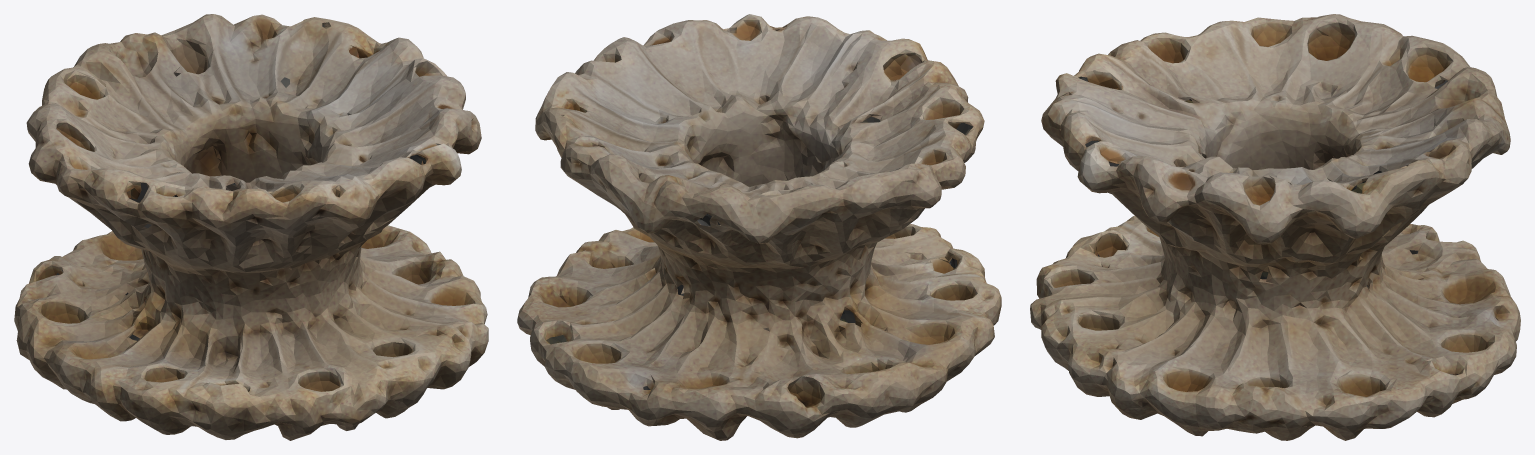
The picture shows the model from 3 angles, left to right: view 1: azimuth 30°, elevation 25°; view 2: azimuth 150°, elevation 25°; view 3: azimuth 270°, elevation 25°; orthographic projection. The views are drawn at different scales.
Parts seen in each view (by area): view 1: world; view 2: world; view 3: world.
Boxes of the visible parts, left/top/right/bottom form: world: left=14, top=14, right=488, bottom=440; world: left=517, top=14, right=1001, bottom=440; world: left=1030, top=14, right=1520, bottom=440.
Bounding box in the file's own units: 0.9399 × 0.5868 × 0.9688.
Materials: 1 (1 with a texture image).
